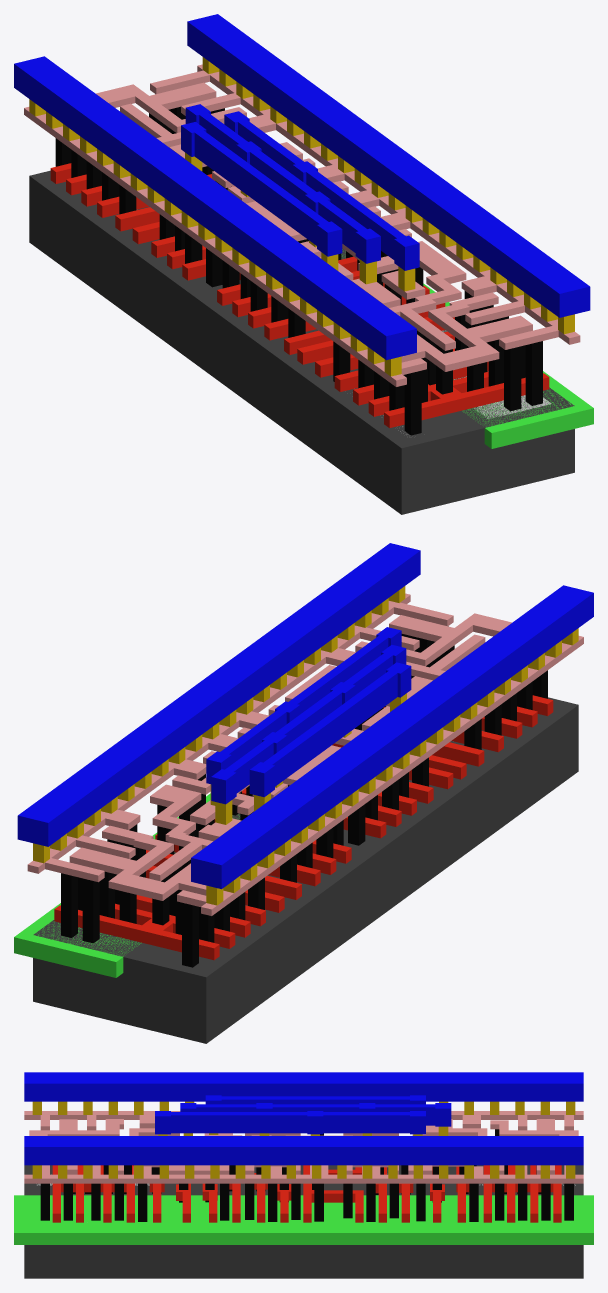
The model's file is sky130_fd_sc_hd__fa_4.obj.
The picture shows the model from 3 angles, top to bottom: view 1: azimuth 30°, elevation 25°; view 2: azimuth 150°, elevation 25°; view 3: azimuth 270°, elevation 25°; orthographic projection. The views are drawn at different scales.
Parts seen in each view (by area): view 1: metal1, subs, li, licon, poly, mcon, nwell; view 2: metal1, subs, li, licon, poly, mcon, nwell; view 3: metal1, subs, nwell, li, poly, licon, mcon.
Boxes of the visible parts, left/top/right/bottom form: metal1: left=14, top=14, right=590, bottom=360; subs: left=29, top=170, right=574, bottom=514; li: left=24, top=64, right=580, bottom=386; licon: left=55, top=106, right=542, bottom=435; poly: left=50, top=163, right=549, bottom=428; mcon: left=29, top=57, right=574, bottom=376; nwell: left=341, top=249, right=593, bottom=448; metal1: left=17, top=543, right=593, bottom=889; subs: left=33, top=697, right=578, bottom=1043; li: left=27, top=593, right=583, bottom=915; licon: left=61, top=626, right=547, bottom=967; poly: left=54, top=695, right=553, bottom=960; mcon: left=33, top=586, right=578, bottom=905; nwell: left=14, top=793, right=239, bottom=977; metal1: left=24, top=1072, right=583, bottom=1165; subs: left=24, top=1165, right=583, bottom=1278; nwell: left=14, top=1195, right=593, bottom=1244; li: left=24, top=1111, right=583, bottom=1183; poly: left=52, top=1165, right=561, bottom=1222; licon: left=40, top=1129, right=573, bottom=1221; mcon: left=32, top=1101, right=575, bottom=1178.
Bounding box in the file's own units: 3.2 × 2.74 × 10.5.
